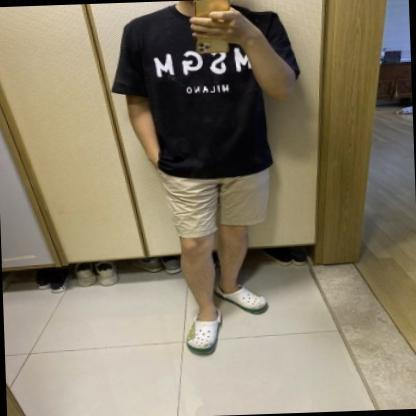no_safety-shoe: (214, 271, 283, 323), (186, 315, 234, 364)
